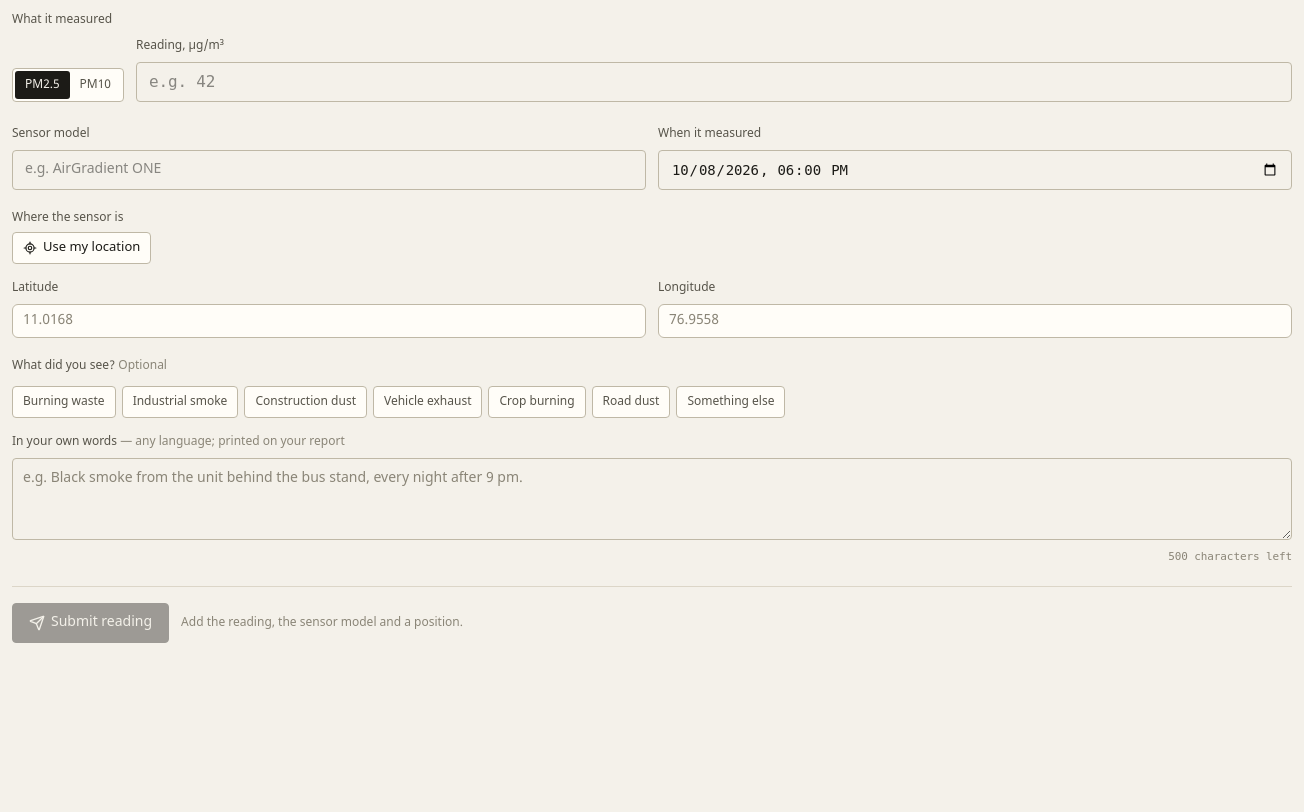
Test: SensorReadingForm › cannot be submitted until the reading, the model and a position are given
Expected: the button "Submit reading" is disabled, [12, 602, 169, 642]
Type "48" into the number field labelled "Reading, µg/m³" at (714, 82), box [136, 62, 1292, 102]
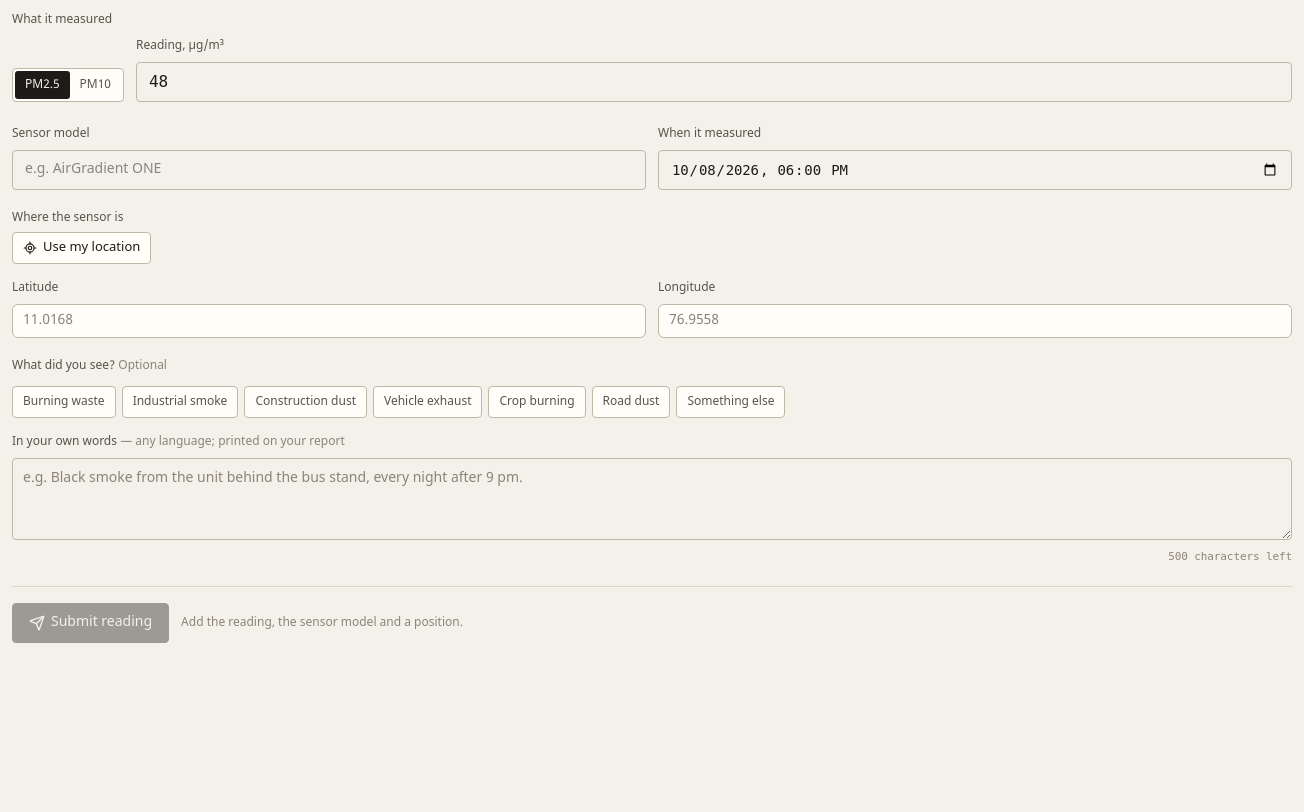
Expected: the button "Submit reading" is disabled, [12, 602, 169, 642]
Type "AirGradient ONE" into the field labelled "Sensor model" at (329, 170), box [12, 150, 646, 190]
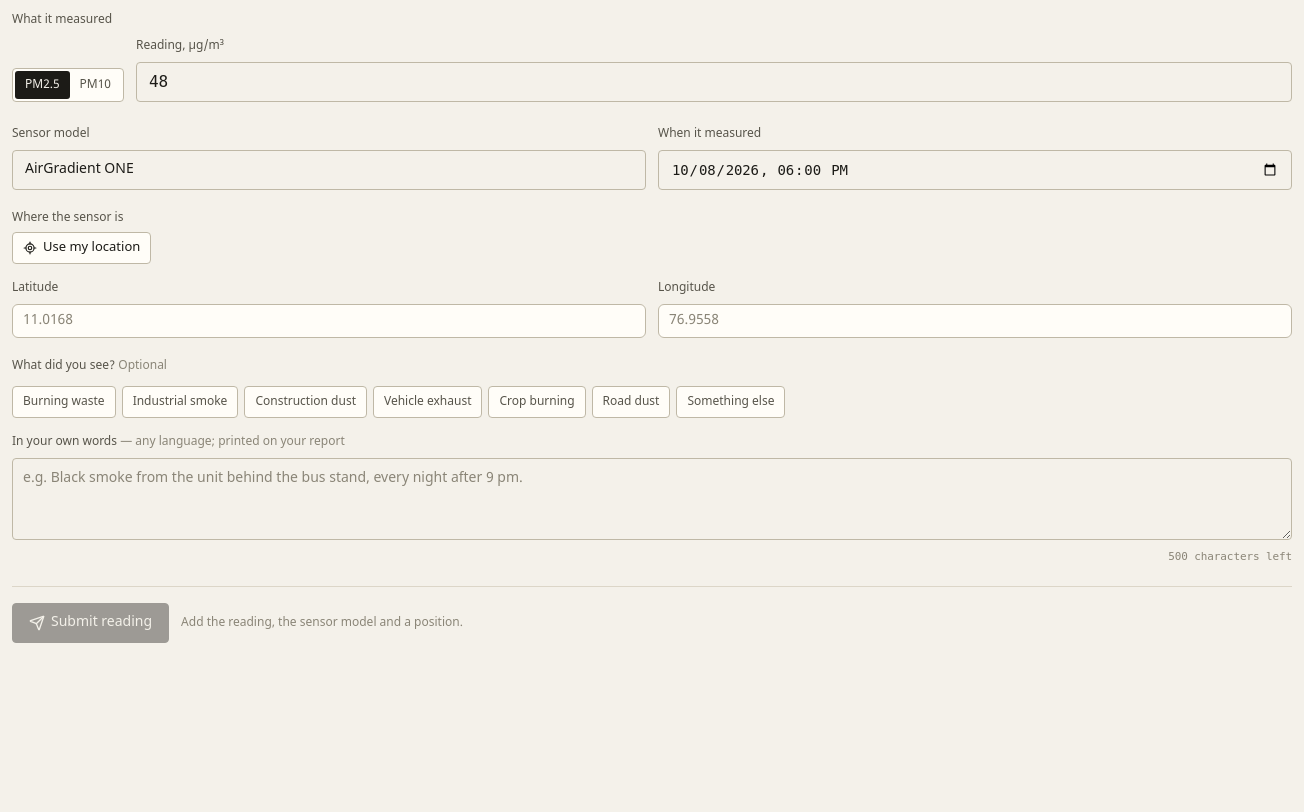
Expected: the button "Submit reading" is disabled, [12, 602, 169, 642]
Type "10.9425" into the number field labelled "Latitude" at (329, 321), box [12, 304, 646, 338]
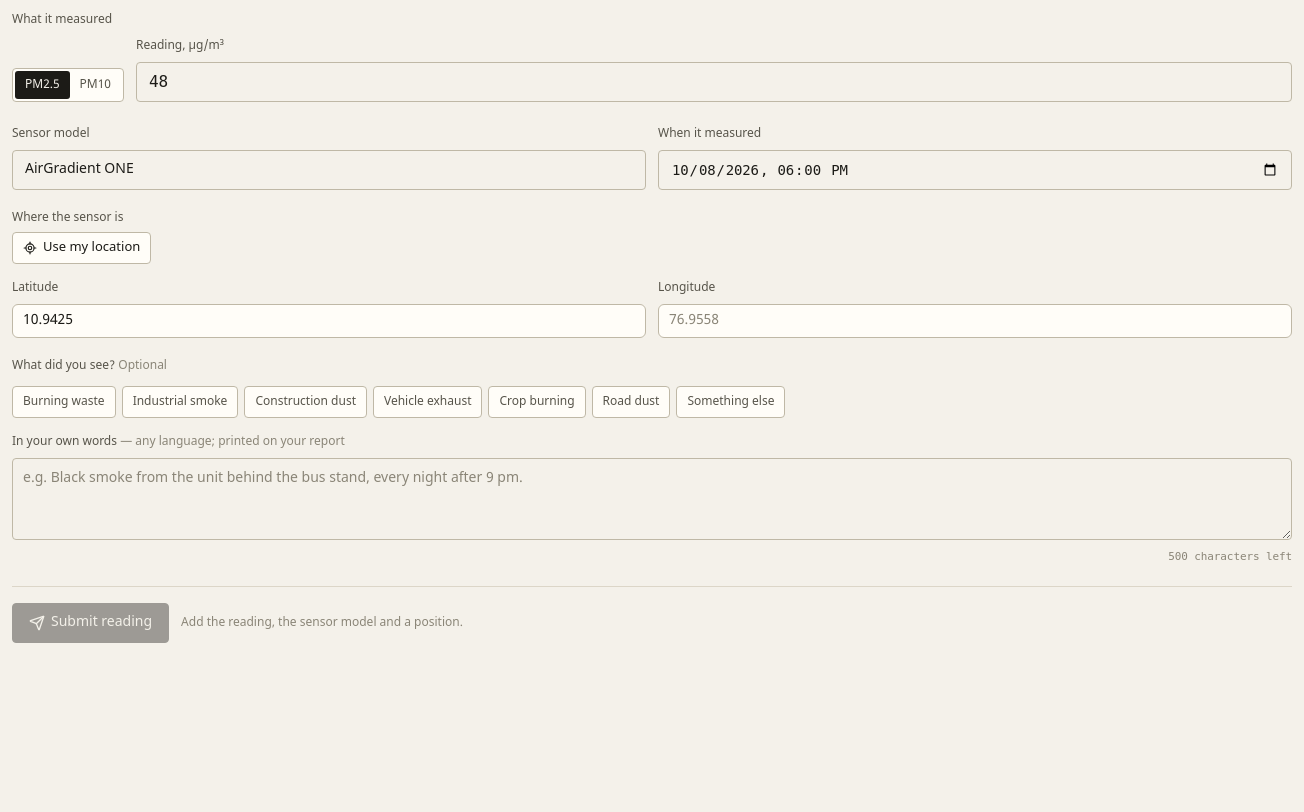
Type "76.9790" into the number field labelled "Longitude" at (975, 321), box [658, 304, 1292, 338]
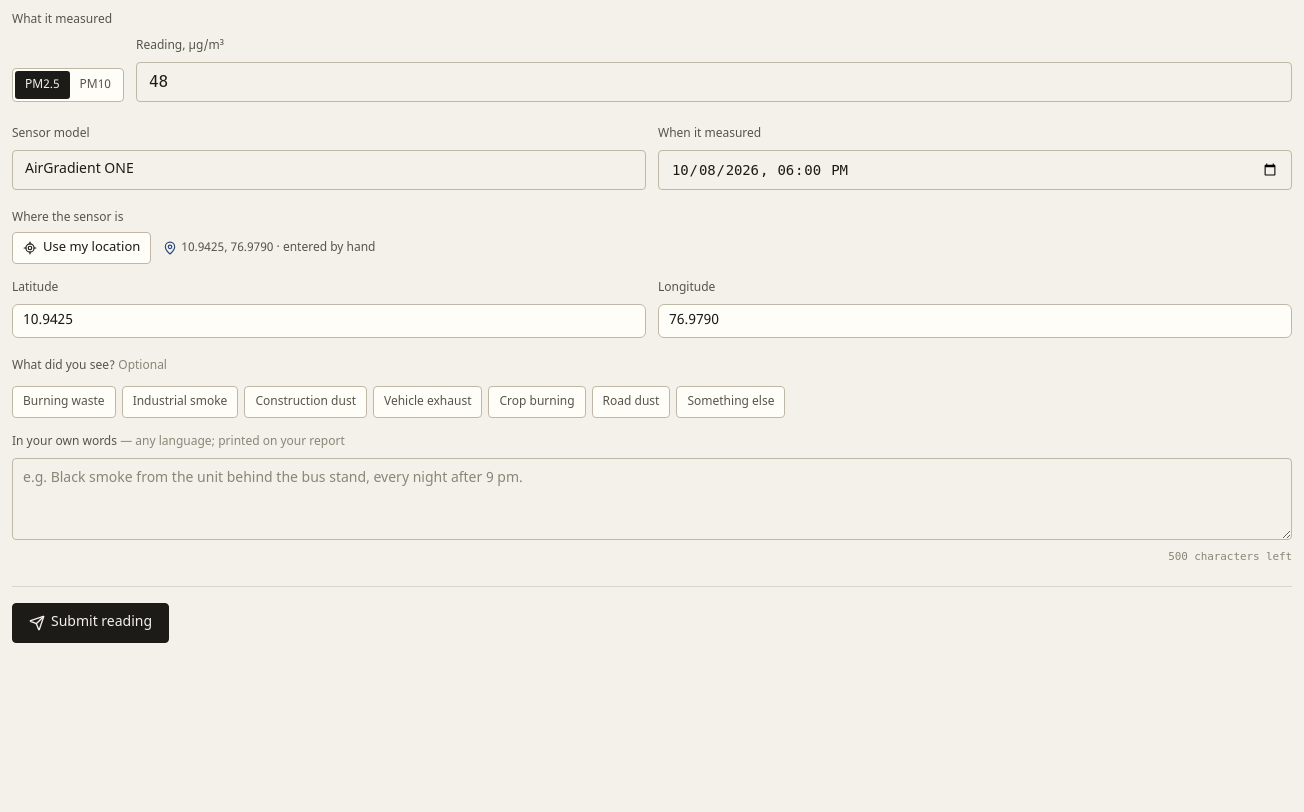
Now the button "Submit reading" is enabled, box [12, 602, 169, 642]
